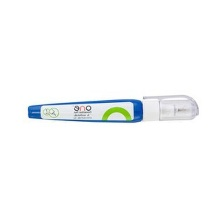correction_fluid: (25, 90, 202, 126)
